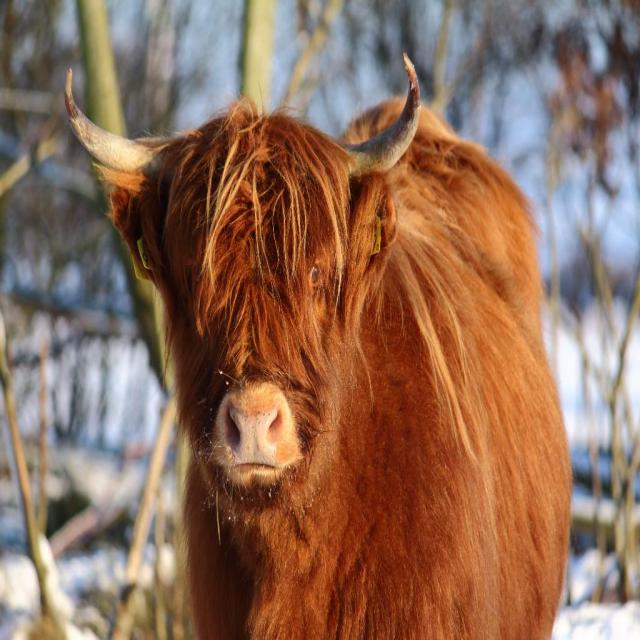Cattle: (66, 5, 548, 640)
